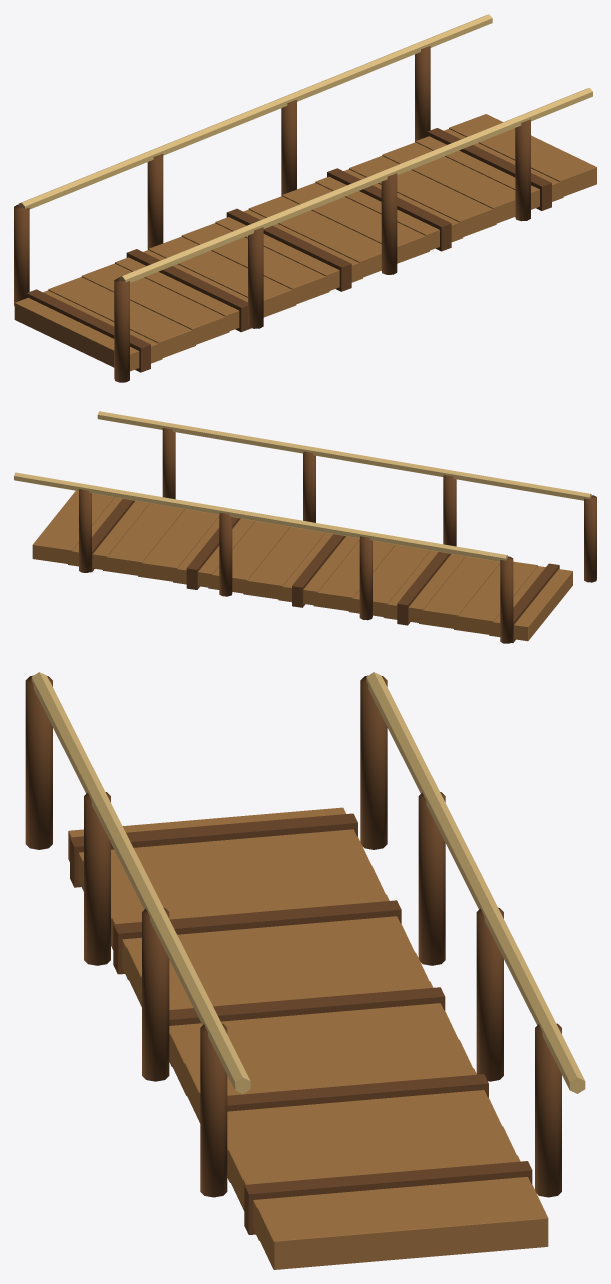
Rendered from lavka.glb.
The picture shows the model from 3 angles, top to bottom: view 1: azimuth 30°, elevation 25°; view 2: azimuth 150°, elevation 25°; view 3: azimuth 270°, elevation 25°; orthographic projection. The views are drawn at different scales.
Parts seen in each view (by area): view 1: Cube, Cube.003, Cube.002, Cube.018, Cube.014, Cube.015, Cube.010, Cube.007, Cube.011, Cube.006, Cube.008, Cube.004 (+15 smaller); view 2: Cube.010, Cube.014, Cube.003, Cube.015, Cube.018, Cube, Cube.006, Cube.011, Cube.002, Cube.007, Cube.004, Cube.008 (+19 smaller); view 3: Cube.018, Cube.015, Cube.014, Cube.010, Cube.003, Cube.011, Cube.006, Cube.007, Cube.002, Cube.017, Cube.005, Cube.016 (+17 smaller).
Part boxes in pixels (x1=…): Cube: x1=14, y1=290, x2=162, y2=371; Cube.003: x1=81, y1=263, x2=229, y2=345; Cube.002: x1=48, y1=277, x2=195, y2=359; Cube.018: x1=449, y1=114, x2=596, y2=196; Cube.014: x1=349, y1=156, x2=496, y2=236; Cube.015: x1=382, y1=142, x2=515, y2=224; Cube.010: x1=248, y1=196, x2=381, y2=277; Cube.007: x1=181, y1=223, x2=329, y2=305; Cube.011: x1=282, y1=182, x2=429, y2=263; Cube.006: x1=148, y1=236, x2=296, y2=317; Cube.008: x1=215, y1=209, x2=362, y2=290; Cube.004: x1=115, y1=250, x2=247, y2=330; Cube.010: x1=243, y1=527, x2=325, y2=599; Cube.014: x1=138, y1=509, x2=219, y2=582; Cube.003: x1=419, y1=556, x2=500, y2=629; Cube.015: x1=103, y1=503, x2=184, y2=575; Cube.018: x1=32, y1=491, x2=114, y2=563; Cube: x1=489, y1=566, x2=572, y2=641; Cube.006: x1=348, y1=544, x2=430, y2=617; Cube.011: x1=208, y1=521, x2=289, y2=593; Cube.002: x1=454, y1=561, x2=537, y2=634; Cube.007: x1=313, y1=540, x2=395, y2=610; Cube.004: x1=383, y1=550, x2=465, y2=623; Cube.008: x1=278, y1=533, x2=359, y2=605; Cube.018: x1=257, y1=1184, x2=548, y2=1269; Cube.015: x1=228, y1=1126, x2=516, y2=1210; Cube.014: x1=227, y1=1097, x2=501, y2=1182; Cube.010: x1=170, y1=1010, x2=458, y2=1095; Cube.003: x1=111, y1=865, x2=385, y2=949; Cube.011: x1=184, y1=1039, x2=472, y2=1123; Cube.006: x1=126, y1=923, x2=414, y2=1006; Cube.007: x1=141, y1=952, x2=429, y2=1005; Cube.002: x1=83, y1=836, x2=371, y2=889; Cube.017: x1=244, y1=1161, x2=532, y2=1234; Cube.005: x1=113, y1=900, x2=401, y2=974; Cube.016: x1=243, y1=1155, x2=530, y2=1240.
Bounding box in the file's own units: 2.39 × 0.5079 × 1.24.
